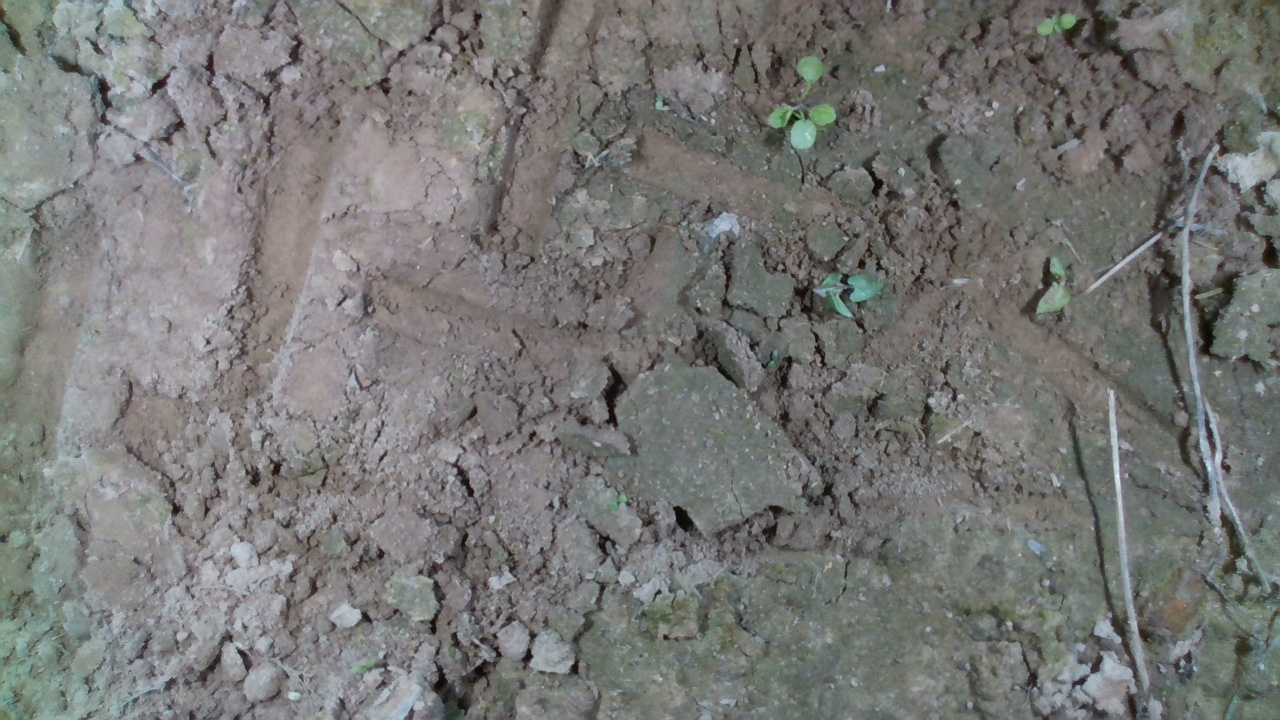weed: (763, 55, 837, 152), (812, 271, 885, 319), (1035, 9, 1076, 36)
